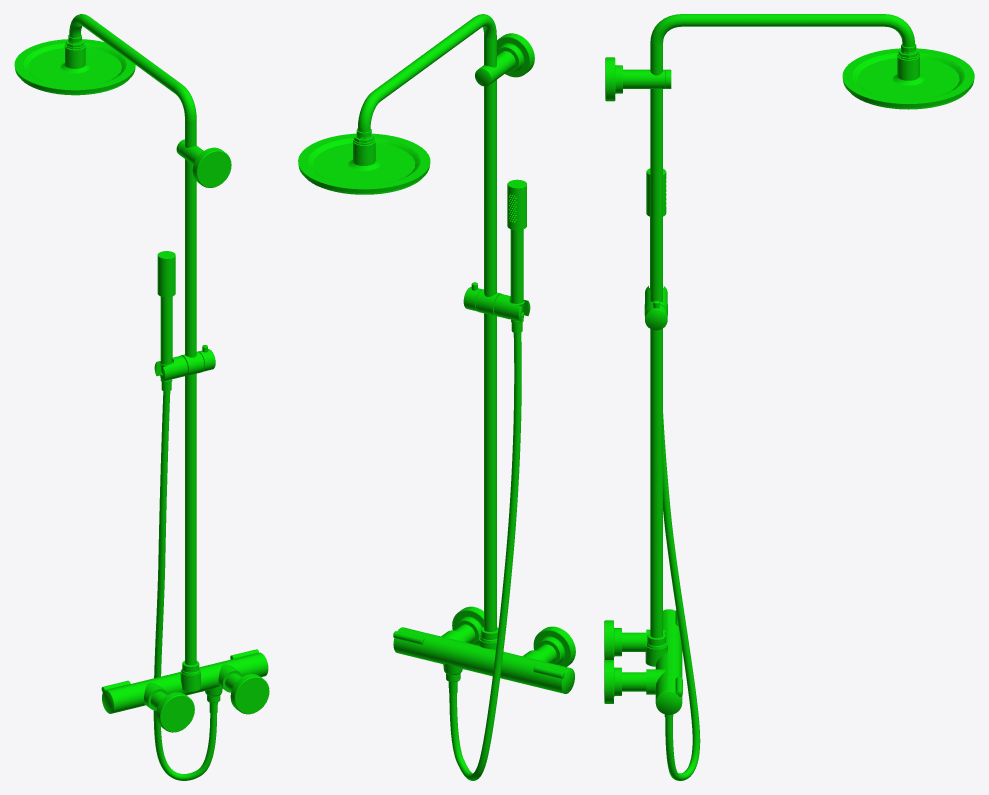
The model's file is OM_1BHK_Bathroom_Shower.fbx.
3 renders of one model, left to right at view 1: azimuth 30°, elevation 25°; view 2: azimuth 150°, elevation 25°; view 3: azimuth 270°, elevation 25°, orthographic. The views are drawn at different scales.
Parts seen in each view (by area): view 1: OM_1BHK_Bathroom_Shower; view 2: OM_1BHK_Bathroom_Shower; view 3: OM_1BHK_Bathroom_Shower.
Boxes of the visible parts, x1,y1,x2,y2 form: OM_1BHK_Bathroom_Shower: [14, 14, 269, 780]; OM_1BHK_Bathroom_Shower: [298, 14, 575, 780]; OM_1BHK_Bathroom_Shower: [604, 14, 974, 780].
Bounding box in the file's own units: 1.01 × 4.38 × 1.93.
